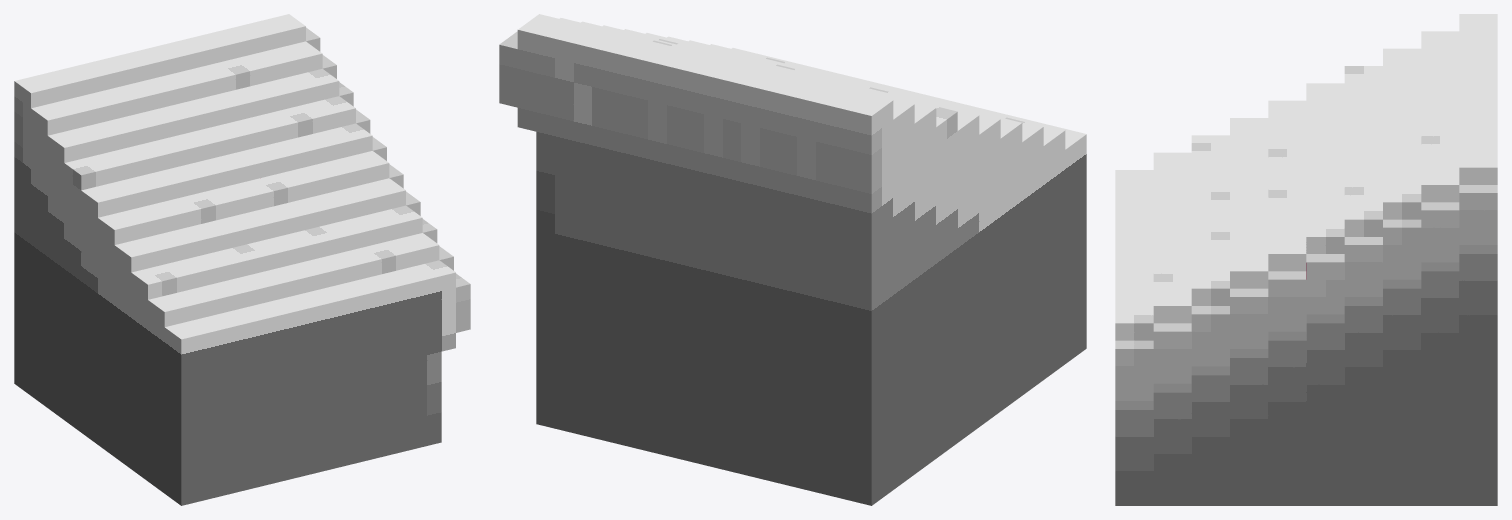
The model's file is half_ramp_full_right.glb.
3 renders of one model, left to right at view 1: azimuth 30°, elevation 25°; view 2: azimuth 150°, elevation 25°; view 3: azimuth 270°, elevation 25°, orthographic. The views are drawn at different scales.
Parts seen in each view (by area): view 1: half_ramp_full_right; view 2: half_ramp_full_right; view 3: half_ramp_full_right.
Part boxes in pixels (x1,y1,x2,y2): half_ramp_full_right: (14, 14, 470, 505); half_ramp_full_right: (499, 14, 1086, 505); half_ramp_full_right: (1115, 14, 1497, 505).
Size of the model in its own units: 2 by 2 by 2.
Materials: 1 (1 with a texture image).
